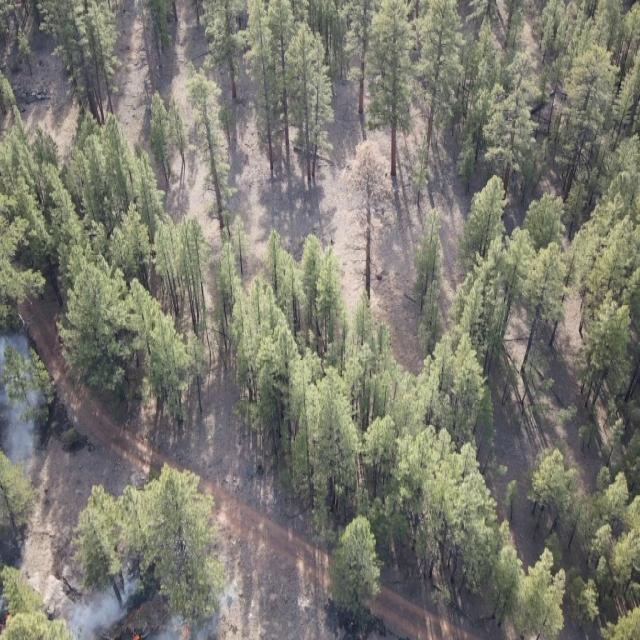fire: (161, 621, 191, 640), (0, 610, 11, 634), (132, 634, 144, 640)
smoke: (0, 334, 50, 466), (65, 579, 146, 640), (150, 595, 236, 640)
